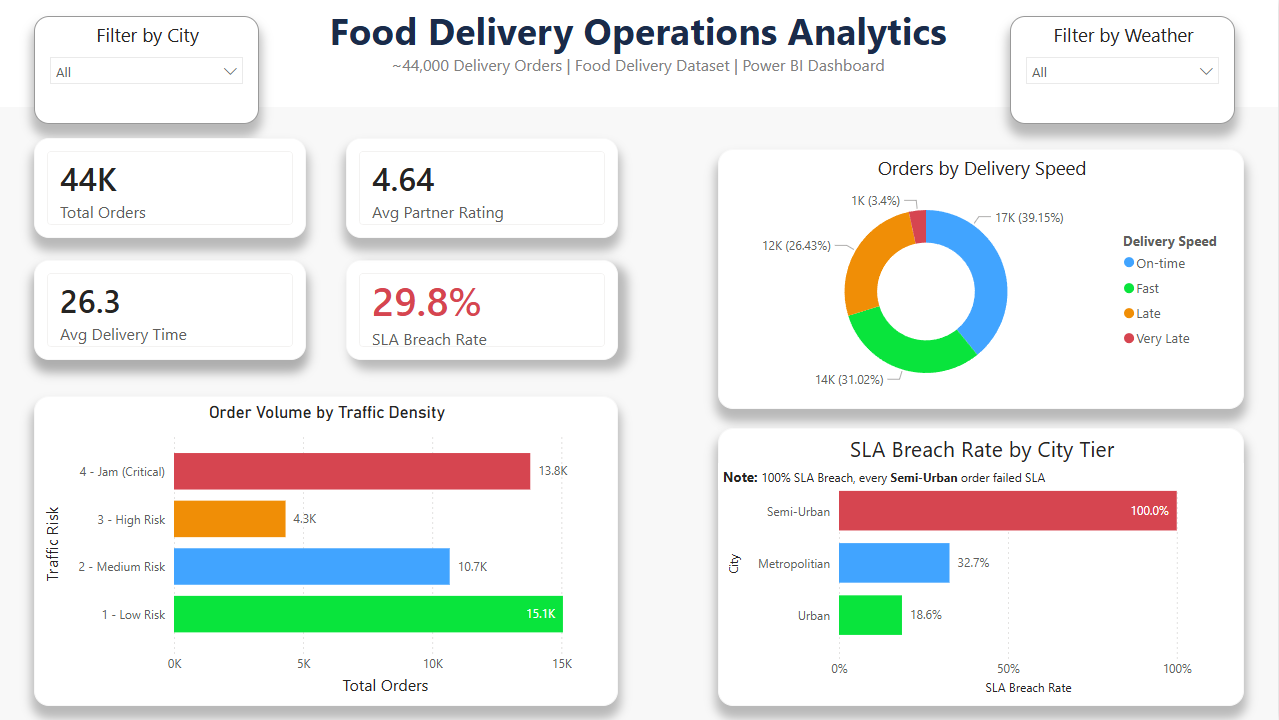

This screenshot's page, from the dashboard's own definition file:
{"tool":"powerbi","page":{"name":"Executive Summary","canvas":[1280,720],"ordinal":0},"visuals":[{"type":"textbox","box":[0,0,1280,107],"z":0},{"type":"clusteredBarChart","title":"SLA Breach Rate by City Tier","fields":{"Category":["orders_clean.city"],"Y":["orders_clean.SLA Breach Rate"]},"box":[720,428,526,278],"z":1000,"group":"g1"},{"type":"donutChart","title":"Orders by Delivery Speed","fields":{"Category":["orders_clean.delivery_speed"],"Y":["orders_clean.Total Orders"]},"box":[720,149,526,260],"z":2000},{"type":"clusteredBarChart","title":" Order Volume by Traffic Density","fields":{"Category":["orders_clean.traffic_risk"],"Y":["orders_clean.Total Orders"]},"box":[36,396,584,310],"z":3000},{"type":"slicer","title":"Filter by Weather","fields":{"Values":["orders_clean.weather"]},"box":[1012,16,225,108],"z":4000},{"type":"slicer","title":"Filter by City","fields":{"Values":["orders_clean.city"]},"box":[36,16,225,108],"z":5000},{"type":"textbox","box":[720,463,526,27],"z":6000,"group":"g1"},{"type":"cardVisual","fields":{"Data":["orders_clean.Total Orders"]},"box":[36,138,272,100],"z":7000},{"type":"cardVisual","fields":{"Data":["orders_clean.SLA Breach Rate"]},"box":[348,260,272,100],"z":8000},{"type":"cardVisual","fields":{"Data":["orders_clean.Avg Delivery Time"]},"box":[36,260,272,100],"z":9000},{"type":"cardVisual","fields":{"Data":["orders_clean.Avg Partner Rating"]},"box":[348,138,272,100],"z":10000},{"type":"group","id":"g1","title":"Group 1","box":[720,428,526,278],"z":10001}]}

Visuals, with their boxes in screenshot pixels (x1, y1, x2, y2), scaled from the page's 1280x720 canvas onto the 1279x720 screenshot:
textbox: 0, 0, 1278, 107
"SLA Breach Rate by City Tier" clusteredBarChart: 719, 428, 1245, 706
"Orders by Delivery Speed" donutChart: 719, 149, 1245, 409
" Order Volume by Traffic Density" clusteredBarChart: 36, 396, 620, 706
"Filter by Weather" slicer: 1011, 16, 1236, 124
"Filter by City" slicer: 36, 16, 261, 124
textbox: 719, 463, 1245, 490
cardVisual - orders_clean.Total Orders: 36, 138, 308, 238
cardVisual - orders_clean.SLA Breach Rate: 348, 260, 620, 360
cardVisual - orders_clean.Avg Delivery Time: 36, 260, 308, 360
cardVisual - orders_clean.Avg Partner Rating: 348, 138, 620, 238
"Group 1" group: 719, 428, 1245, 706
